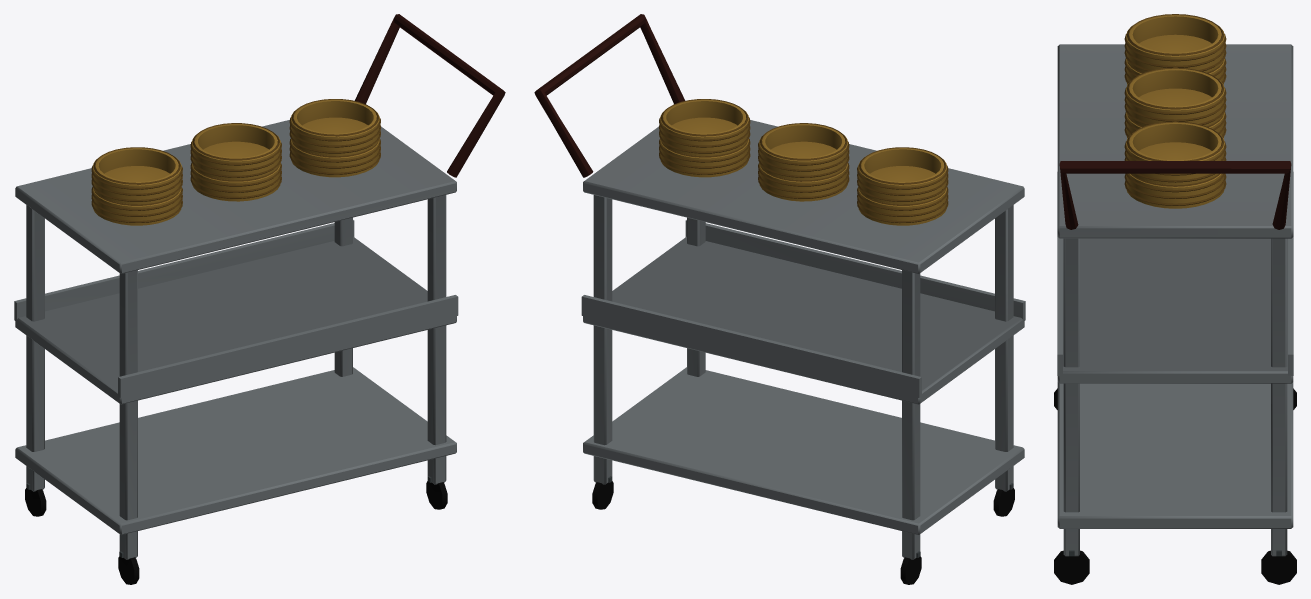
File: tea-dimsum-cart.glb
The picture shows the model from 3 angles, left to right: view 1: azimuth 30°, elevation 25°; view 2: azimuth 150°, elevation 25°; view 3: azimuth 270°, elevation 25°; orthographic projection. The views are drawn at different scales.
Parts seen in each view (by area): view 1: body__steel, steamers__bamboo, bands__bamboo, trim__wood; view 2: body__steel, steamers__bamboo, bands__bamboo, trim__wood; view 3: body__steel, steamers__bamboo, bands__bamboo, trim__wood.
Boxes of the visible parts, <box> form: body__steel: <box>14,120,458,584</box>; steamers__bamboo: <box>93,99,379,225</box>; bands__bamboo: <box>91,99,380,222</box>; trim__wood: <box>354,14,505,177</box>; body__steel: <box>581,120,1025,584</box>; steamers__bamboo: <box>660,99,946,225</box>; bands__bamboo: <box>659,99,948,223</box>; trim__wood: <box>534,14,685,177</box>; body__steel: <box>1054,44,1296,584</box>; steamers__bamboo: <box>1126,15,1224,208</box>; bands__bamboo: <box>1124,14,1226,205</box>; trim__wood: <box>1059,161,1291,229</box>.
Bounding box in the file's own units: 1.05 × 1.06 × 0.5161.
